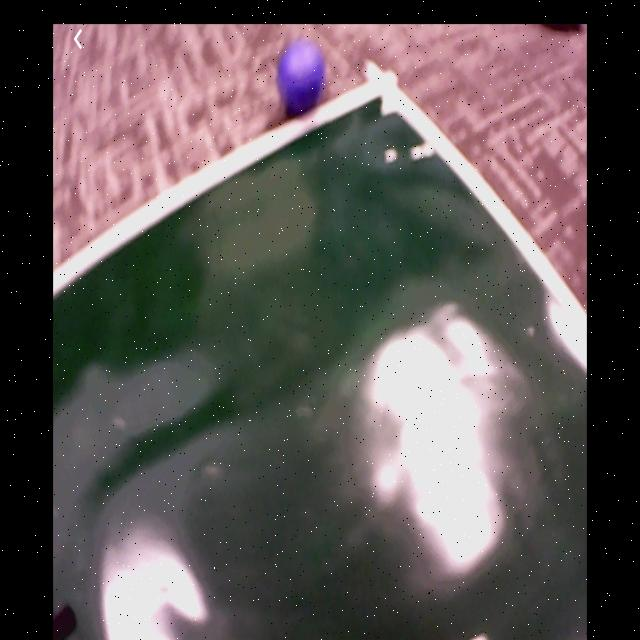ball: (280, 38, 324, 111)
